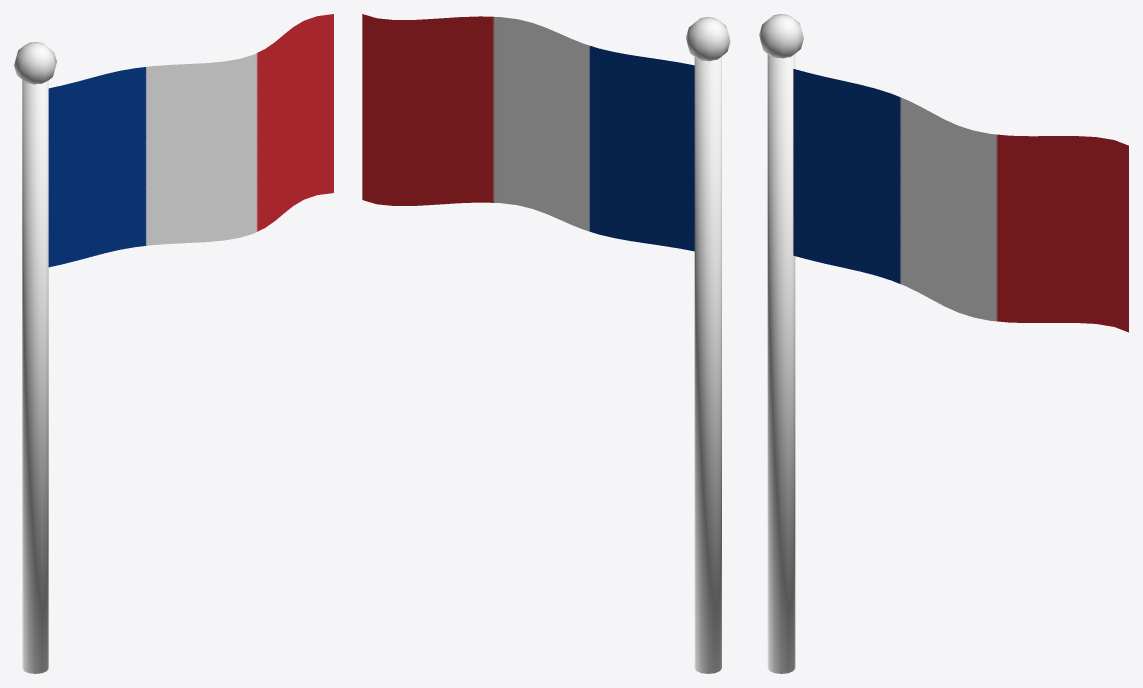
Rendered from FlagFrance.glb.
3 renders of one model, left to right at view 1: azimuth 30°, elevation 25°; view 2: azimuth 150°, elevation 25°; view 3: azimuth 330°, elevation 25°, orthographic. The views are drawn at different scales.
Parts seen in each view (by area): view 1: WaveFlagFrance, WavePoleUSA; view 2: WaveFlagFrance, WavePoleUSA; view 3: WaveFlagFrance, WavePoleUSA.
Boxes of the visible parts, box(x1,y1,x2,y2) form: WaveFlagFrance: box(48, 14, 333, 267); WavePoleUSA: box(14, 42, 56, 673); WaveFlagFrance: box(362, 14, 694, 251); WavePoleUSA: box(686, 17, 730, 673); WaveFlagFrance: box(793, 69, 1128, 332); WavePoleUSA: box(759, 14, 803, 673).
Bounding box in the file's own units: 0.8775 × 1.57 × 0.1342.
2 materials, 1 textured.
